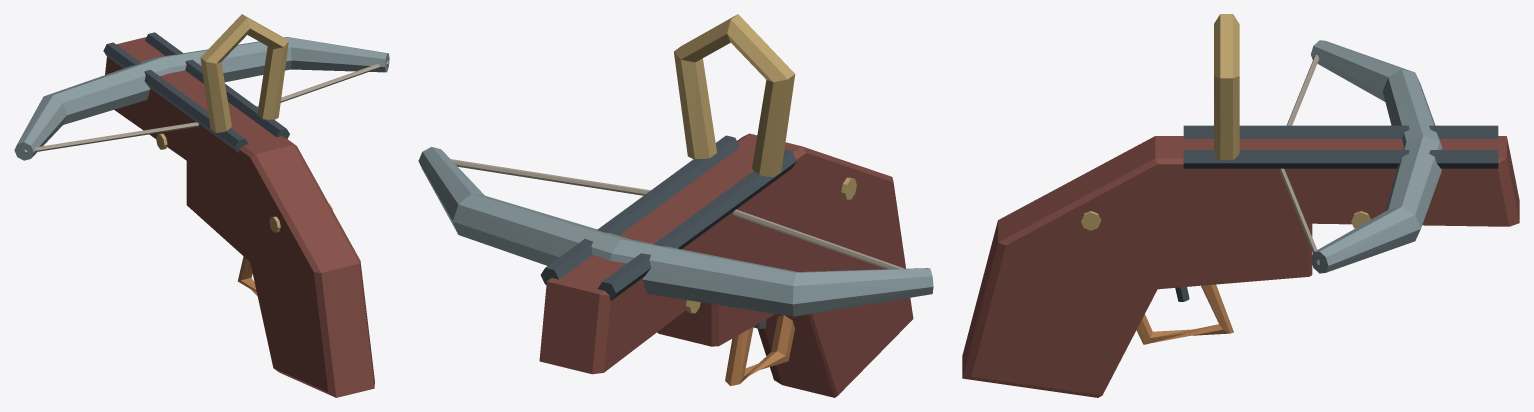
The model's file is AEW_Crossbow_Reliquary.fbx.
3 views of the same model, side by side, from view 1: azimuth 30°, elevation 25°; view 2: azimuth 150°, elevation 25°; view 3: azimuth 270°, elevation 25° (orthographic). The views are drawn at different scales.
Visible parts, largest first — view 1: AEW_Crossbow_Reliquary; view 2: AEW_Crossbow_Reliquary; view 3: AEW_Crossbow_Reliquary.
Boxes of the visible parts, bbox=[...] form: AEW_Crossbow_Reliquary: bbox=[14, 14, 389, 397]; AEW_Crossbow_Reliquary: bbox=[418, 14, 933, 397]; AEW_Crossbow_Reliquary: bbox=[962, 14, 1519, 397].
Bounding box in the file's own units: 0.7233 × 0.5756 × 0.78.
